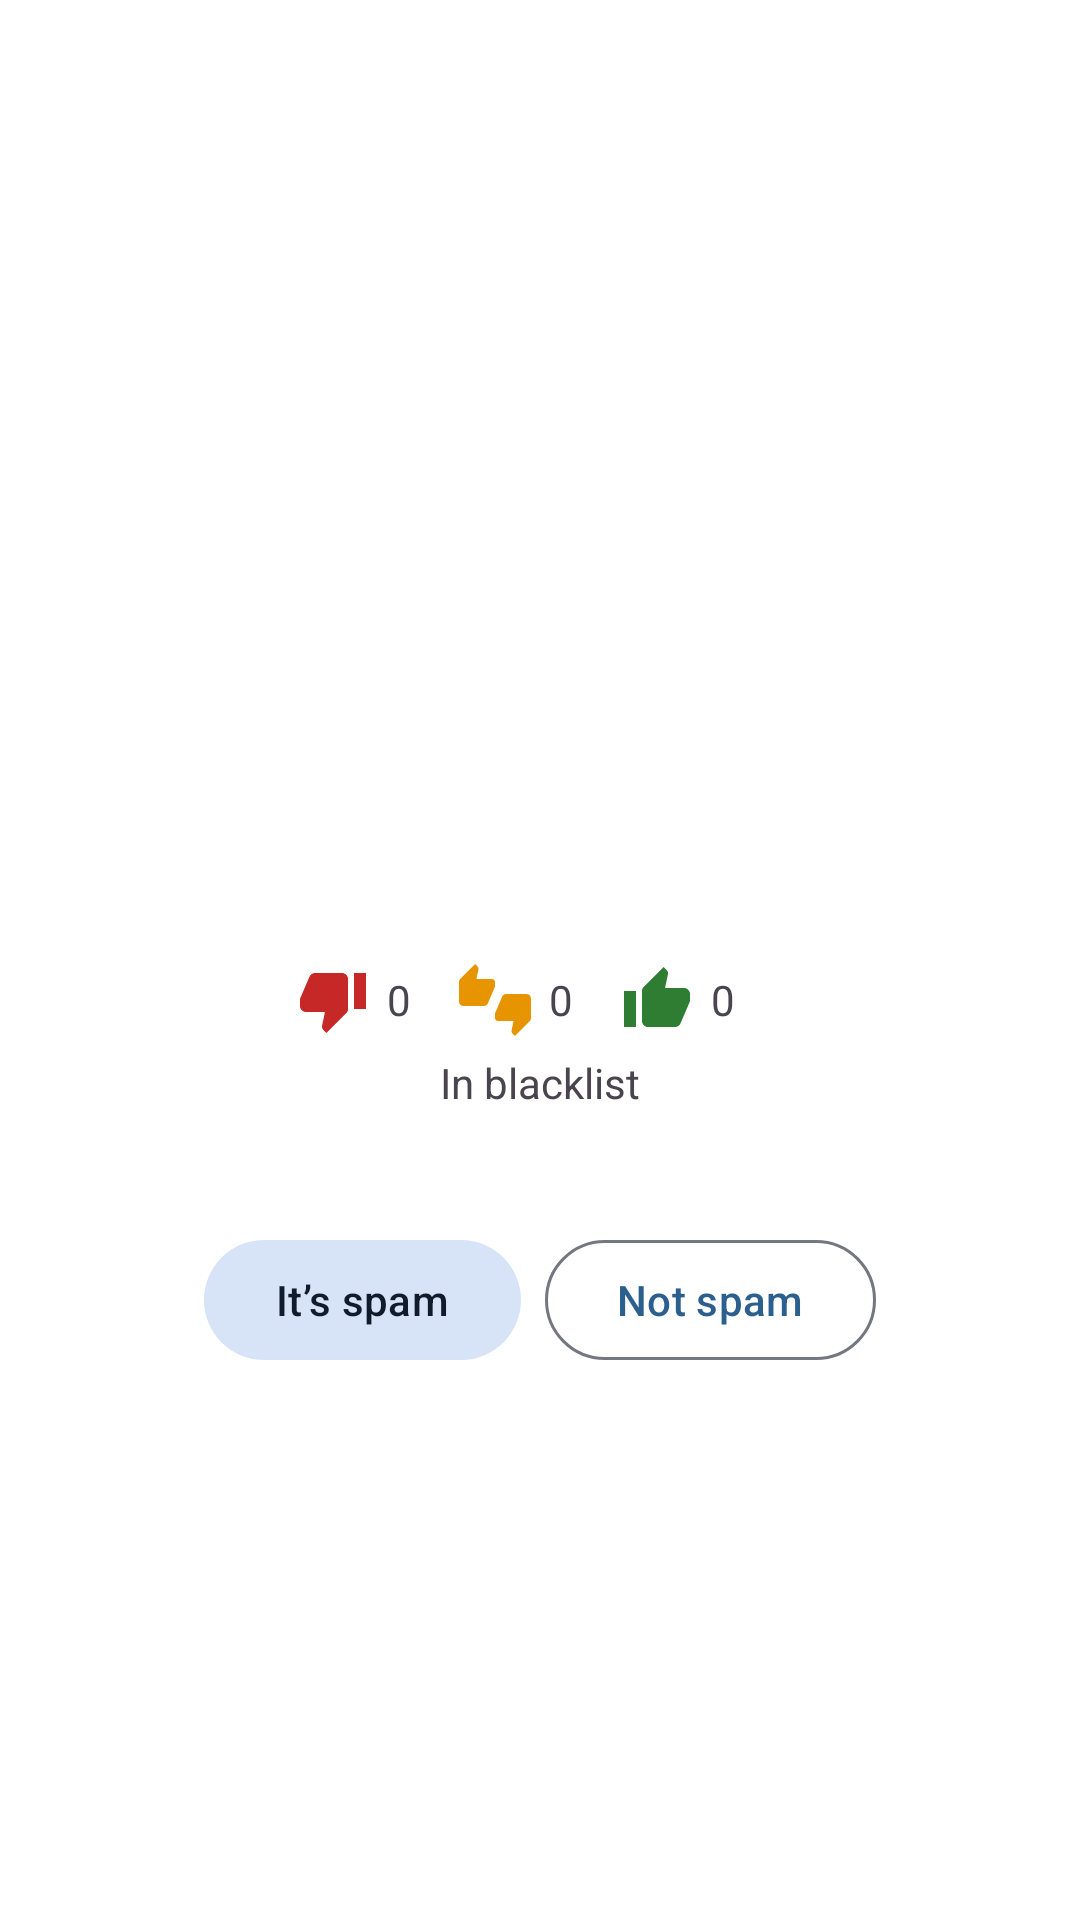

Screen size 1080w x 1920h. Icon name, then its center in pixels as point (x, y):
thumb down: point (333, 1003)
thumb up: point (657, 997)
thumbs up down: point (495, 1000)
